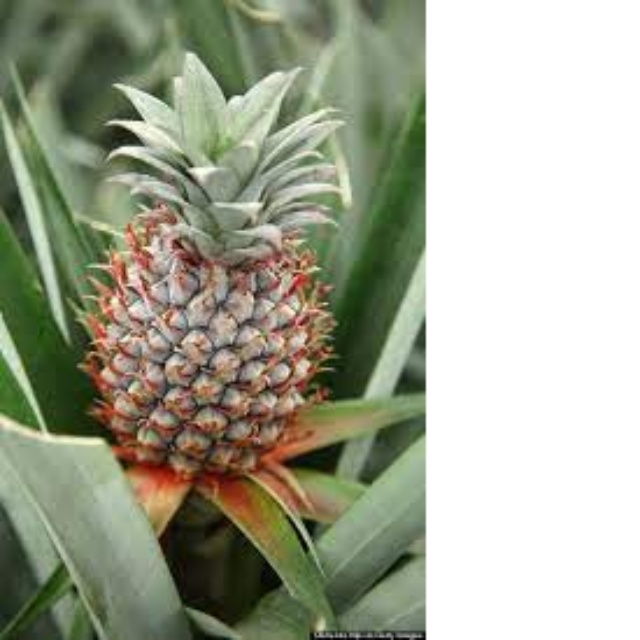thom: (78, 162, 333, 493)
